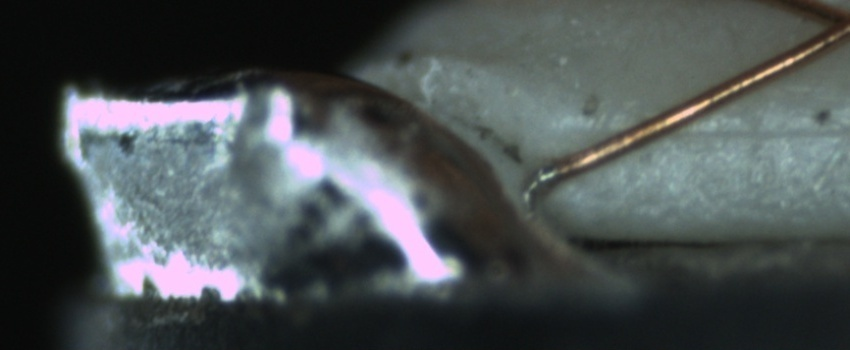CL: (798, 0, 850, 50)
DL: (600, 96, 849, 164)
TS: (530, 161, 559, 194)
